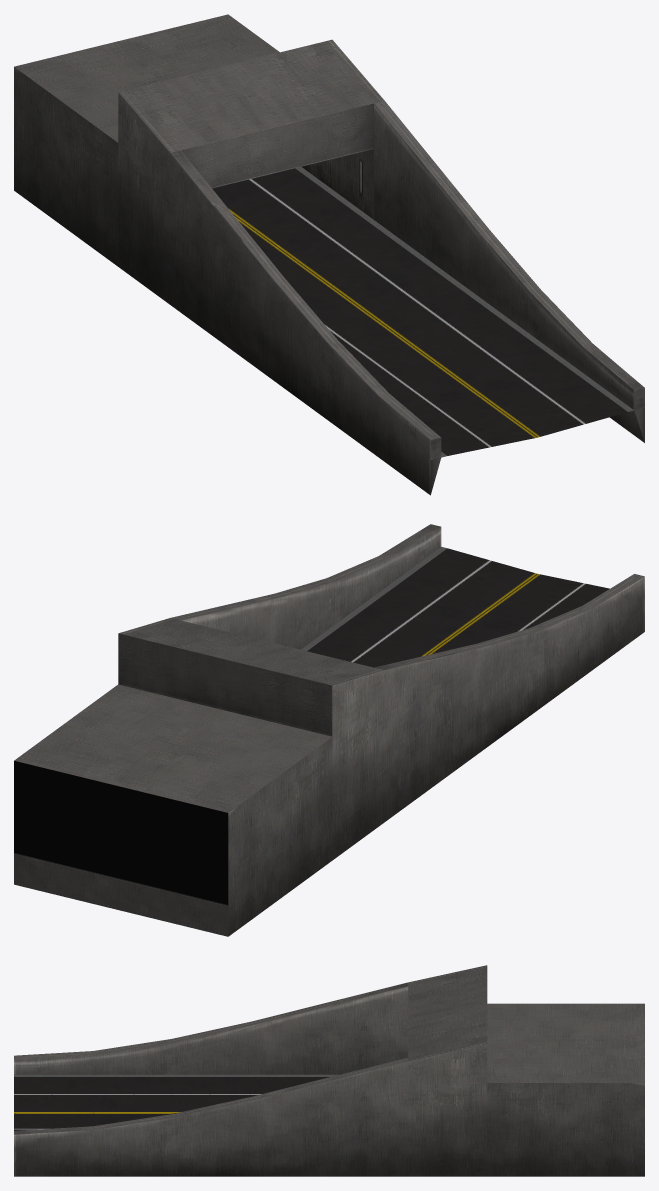
File: RJs_Road Slim 2+2 Slope Segment_lod.fbx
The picture shows the model from 3 angles, top to bottom: view 1: azimuth 30°, elevation 25°; view 2: azimuth 150°, elevation 25°; view 3: azimuth 270°, elevation 25°; orthographic projection. The views are drawn at different scales.
Visible parts, largest first — view 1: plane_lod; view 2: plane_lod; view 3: plane_lod.
Boxes of the visible parts, x1=… form: plane_lod: x1=14, y1=14, x2=644, y2=495; plane_lod: x1=14, y1=524, x2=644, y2=936; plane_lod: x1=14, y1=965, x2=644, y2=1176.
Size of the model in its own units: 1900 by 6400 by 1483.
